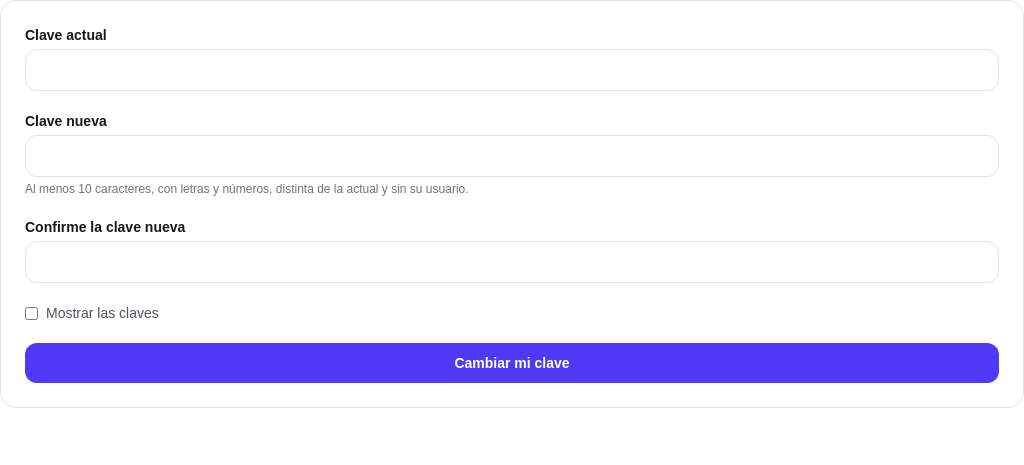
Test: CambiarClaveForm › muestra el motivo si el servidor la rechaza
The width and height of the screenshot is (1024, 465).
In the password field labelled "Clave actual": point(512, 70) [25,49,999,91], type "Inicial-Ab12-Cd34"
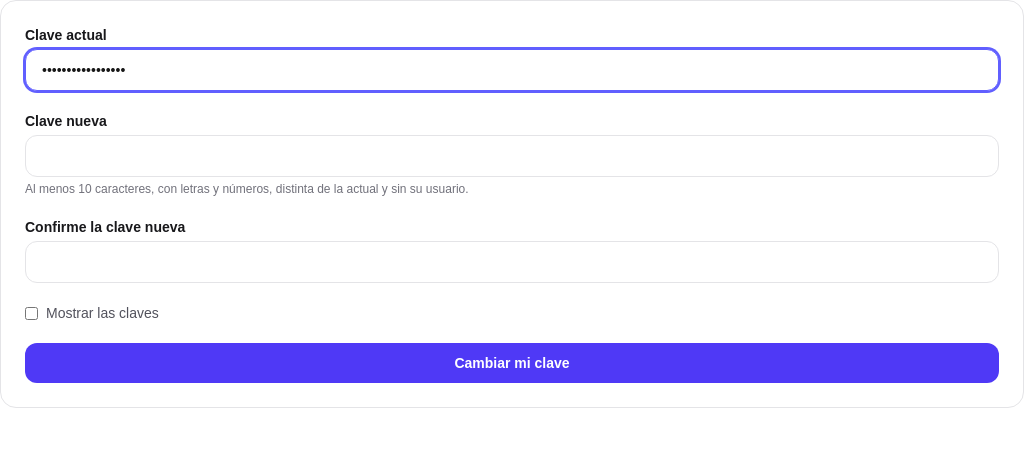
In the password field labelled "Clave nueva": point(512, 156) [25,135,999,177], type "MiClaveNueva2026"
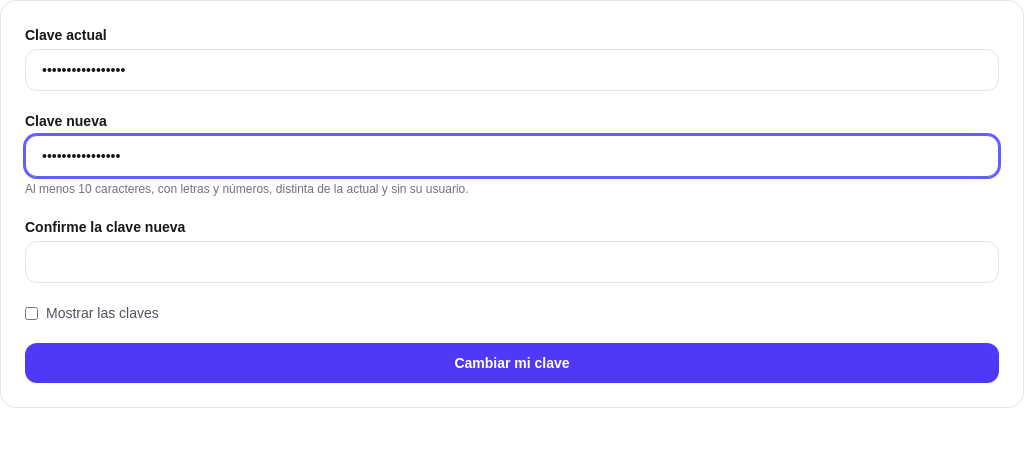
In the password field labelled "Confirme la clave nueva": point(512, 262) [25,241,999,283], type "MiClaveNueva2026"
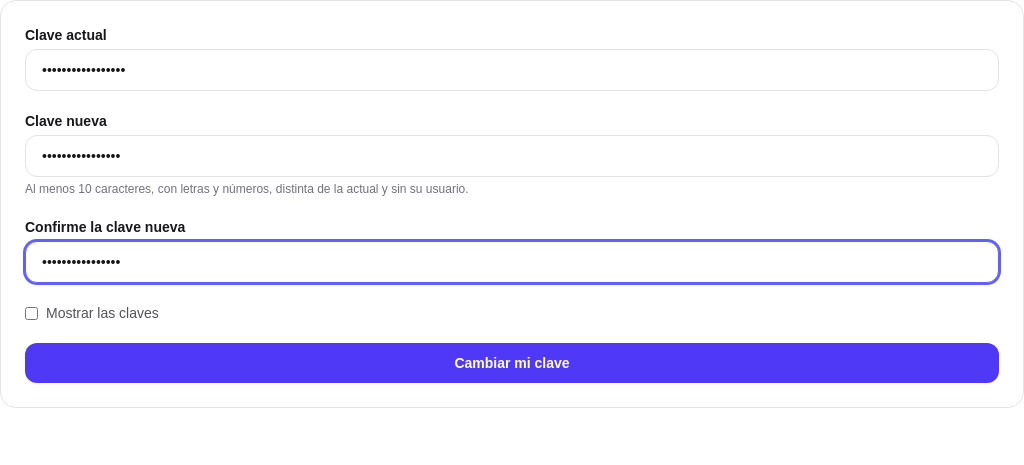
Click the button "Cambiar mi clave": point(512, 363) [25,343,999,383]
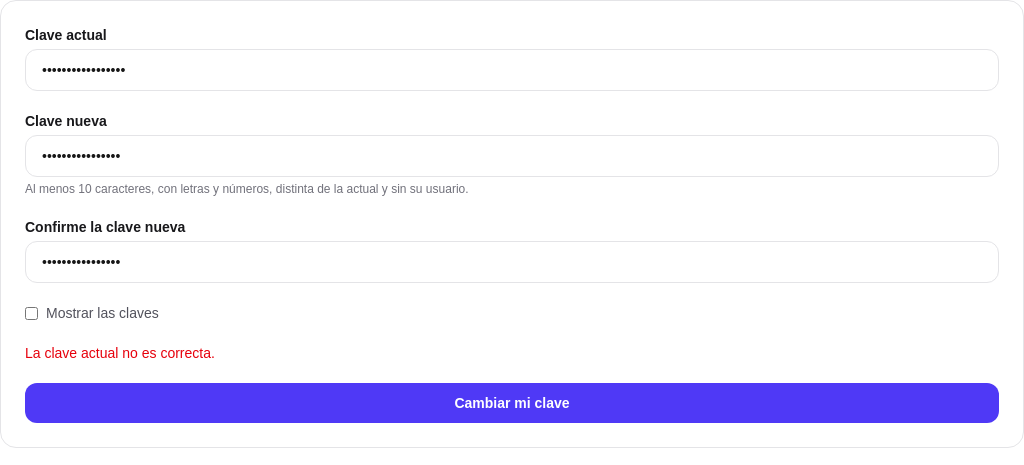
Check: the message reads "La clave actual no es correcta.", box [25,345,215,361]
